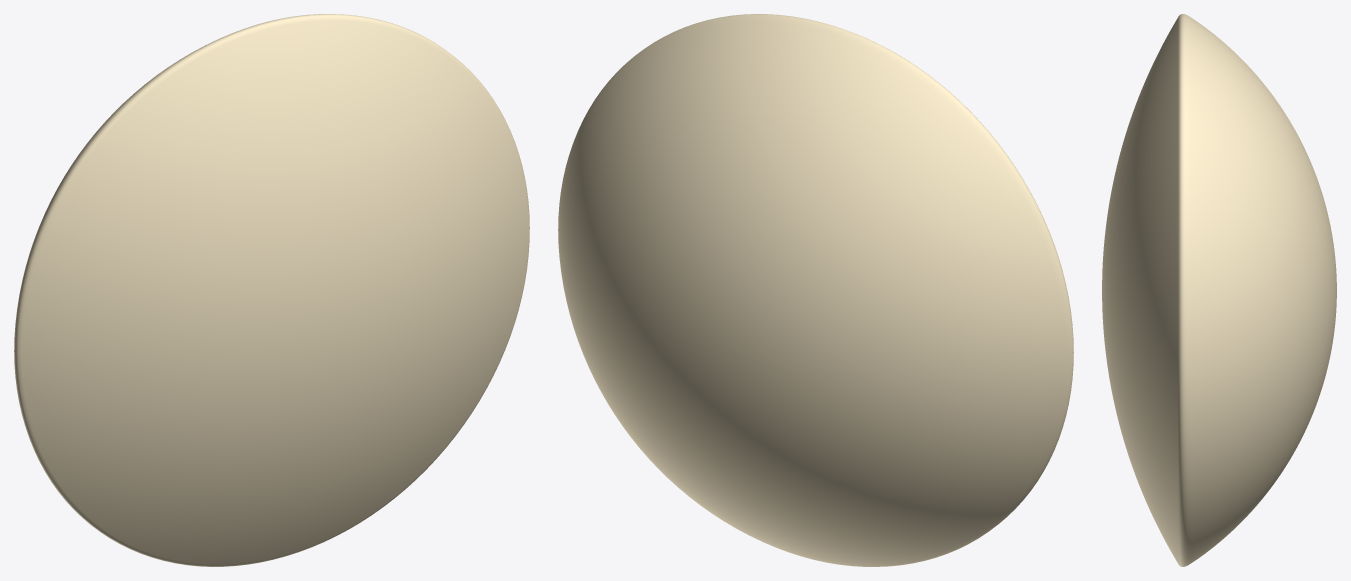
File: lens.glb
The picture shows the model from 3 angles, left to right: view 1: azimuth 30°, elevation 25°; view 2: azimuth 150°, elevation 25°; view 3: azimuth 270°, elevation 25°; orthographic projection. The views are drawn at different scales.
Parts seen in each view (by area): view 1: lens; view 2: lens; view 3: lens.
Part boxes in pixels (box(x1,y1,x2,y2)): lens: box(14, 14, 529, 566); lens: box(558, 14, 1073, 566); lens: box(1102, 14, 1336, 566).
Size of the model in its own units: 0.4094 by 0.4094 by 0.1739.
